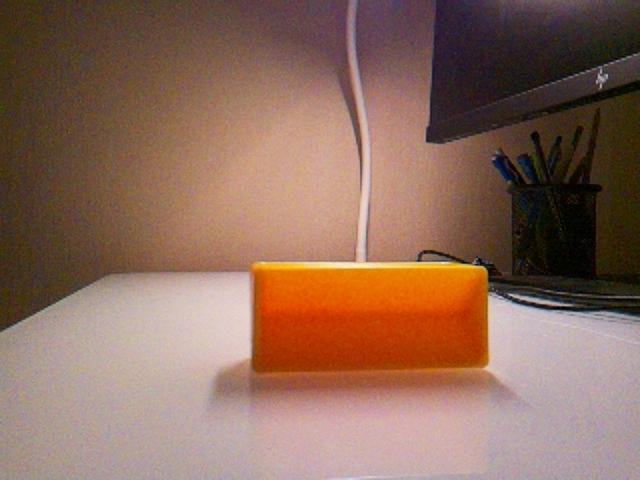yellow: (250, 260, 490, 373)
